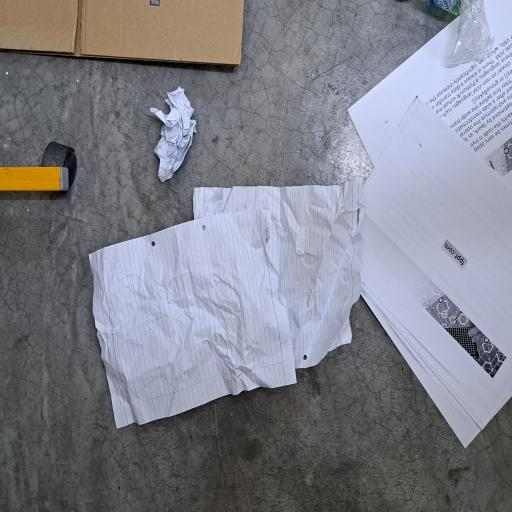cardboard: (329, 0, 384, 323)
paper: (61, 116, 245, 478), (45, 462, 384, 512), (246, 198, 320, 262)
